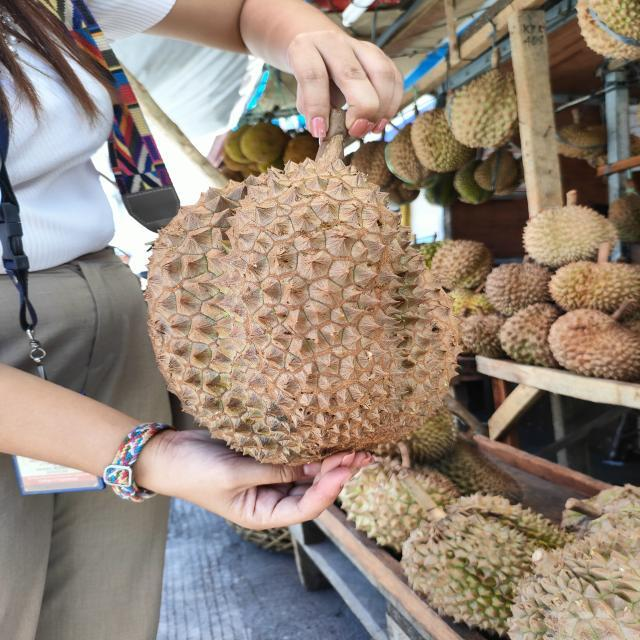mature: (146, 159, 467, 469)
